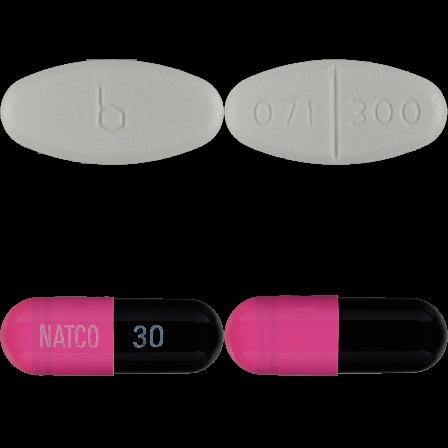68788-9405: (0, 0, 224, 224)
